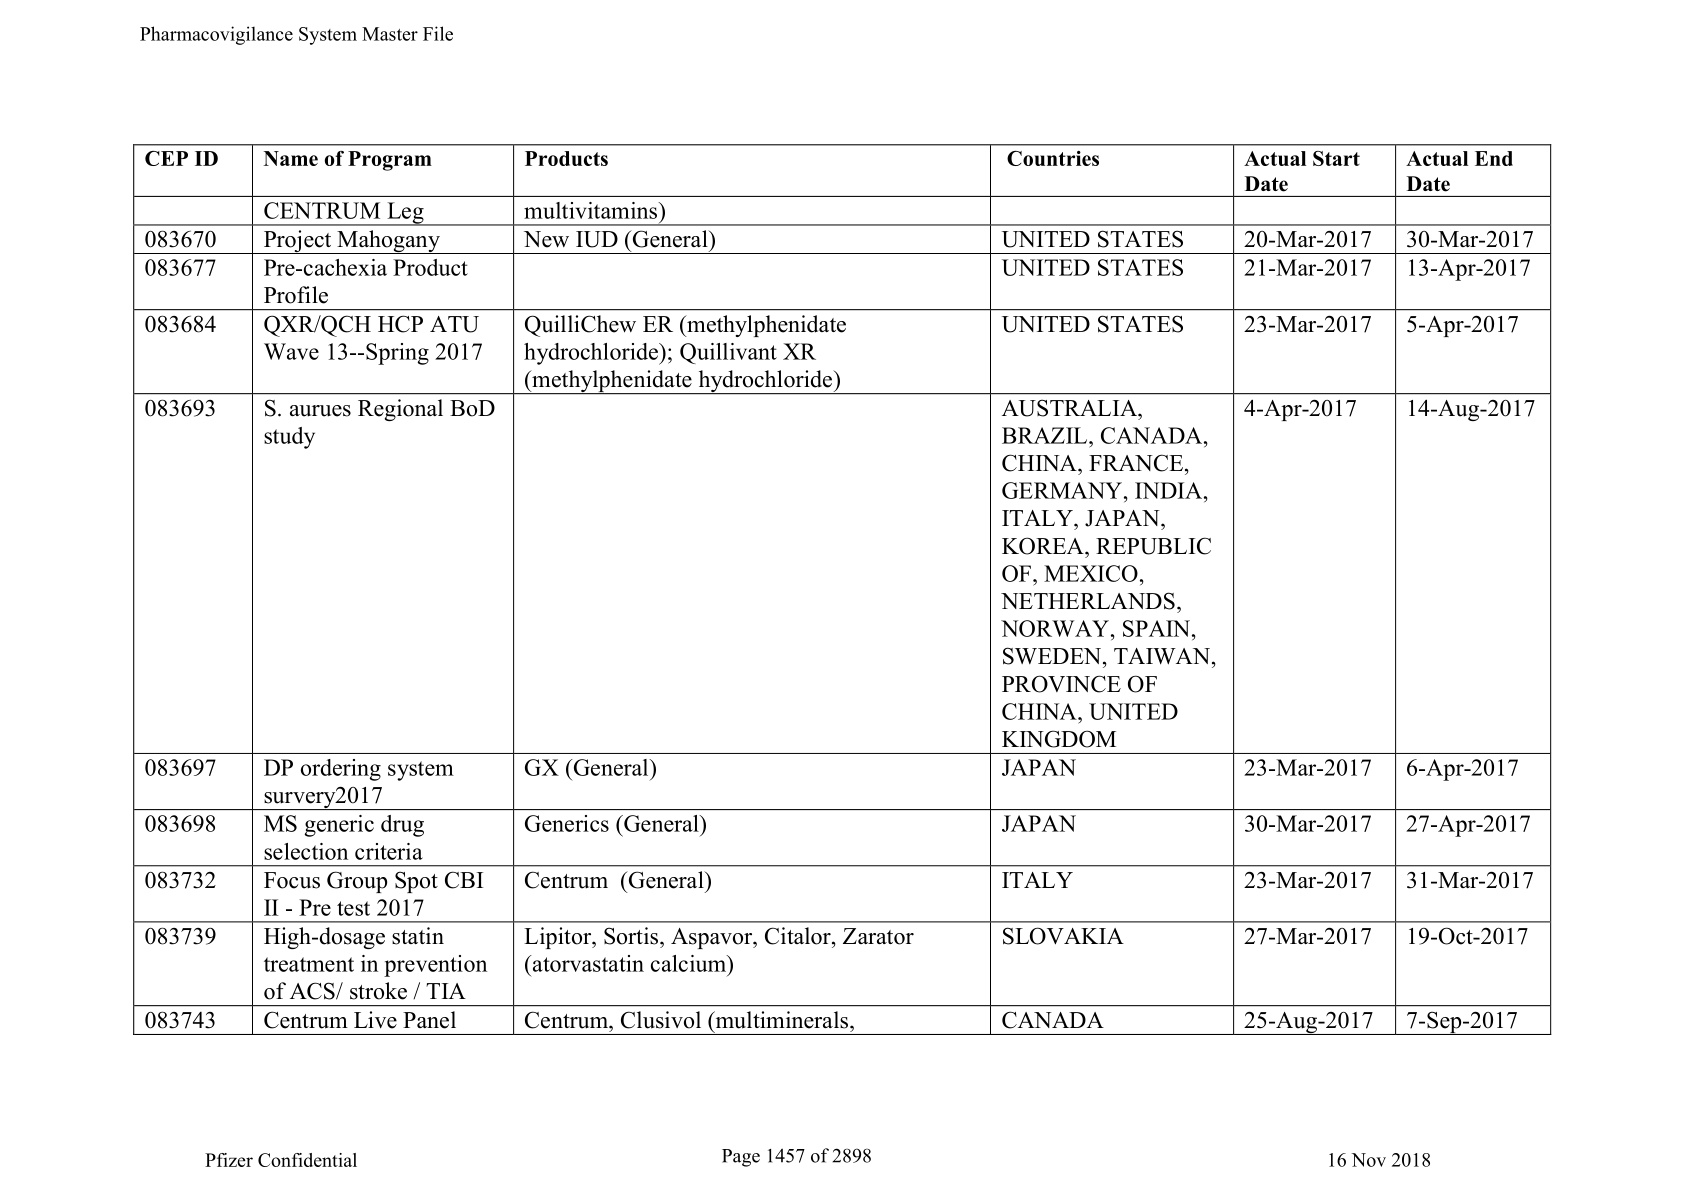full_lined: (131, 143, 1554, 1038)
